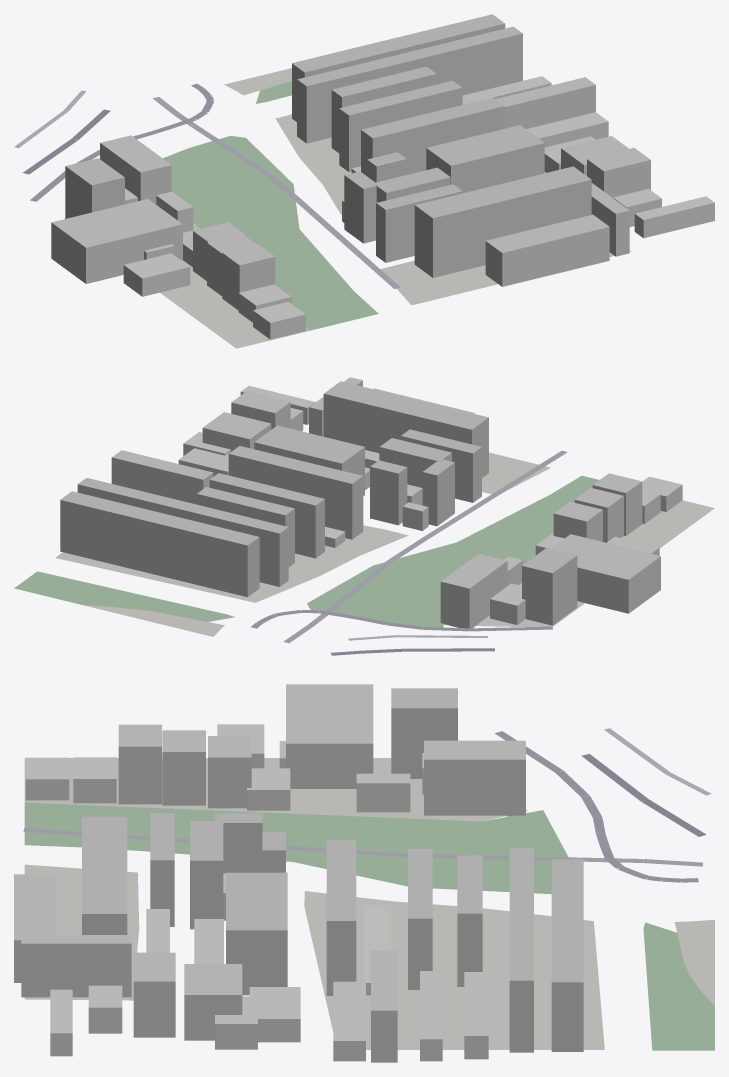
The model's file is 116_90_mid.glb.
3 views of the same model, one above another, from view 1: azimuth 30°, elevation 25°; view 2: azimuth 150°, elevation 25°; view 3: azimuth 270°, elevation 25° (orthographic). The views are drawn at different scales.
Size of the model in its own units: 571 by 61.43 by 508.
